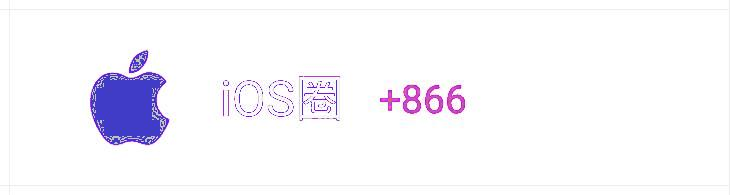CheckedTextView: (1, 1, 729, 194)
